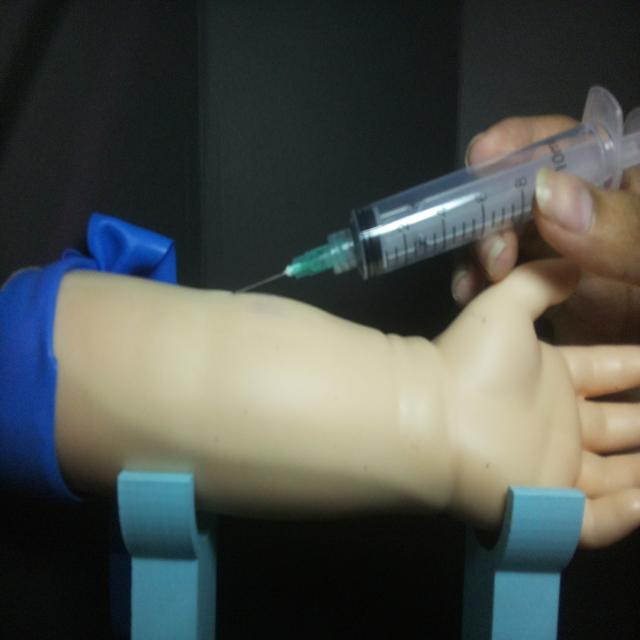20deg: (230, 82, 637, 298)
